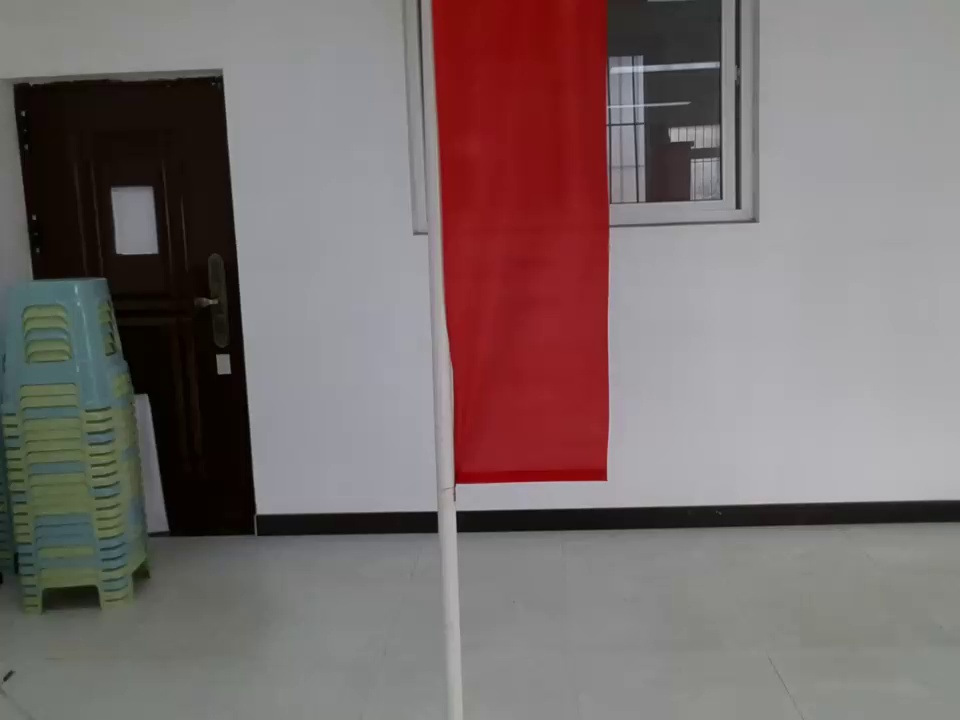qi: (414, 1, 618, 525)
